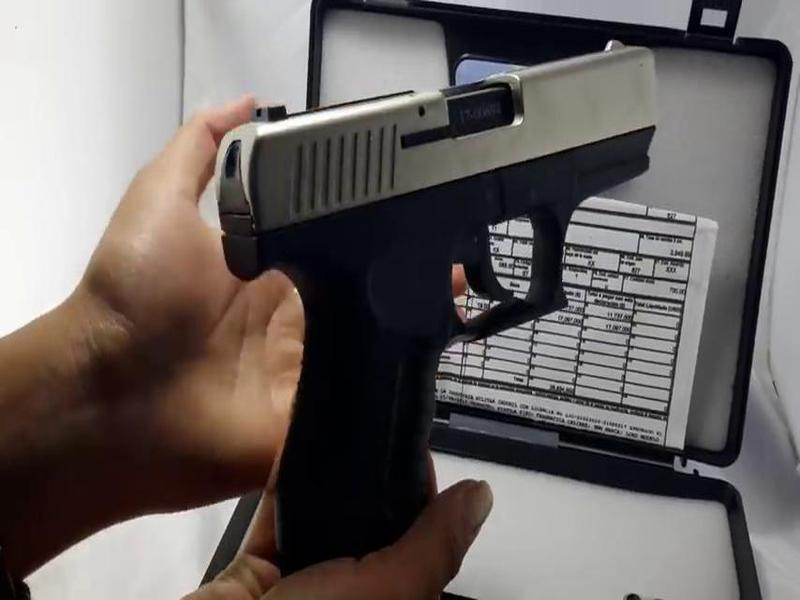Pistola: (179, 5, 682, 596)
